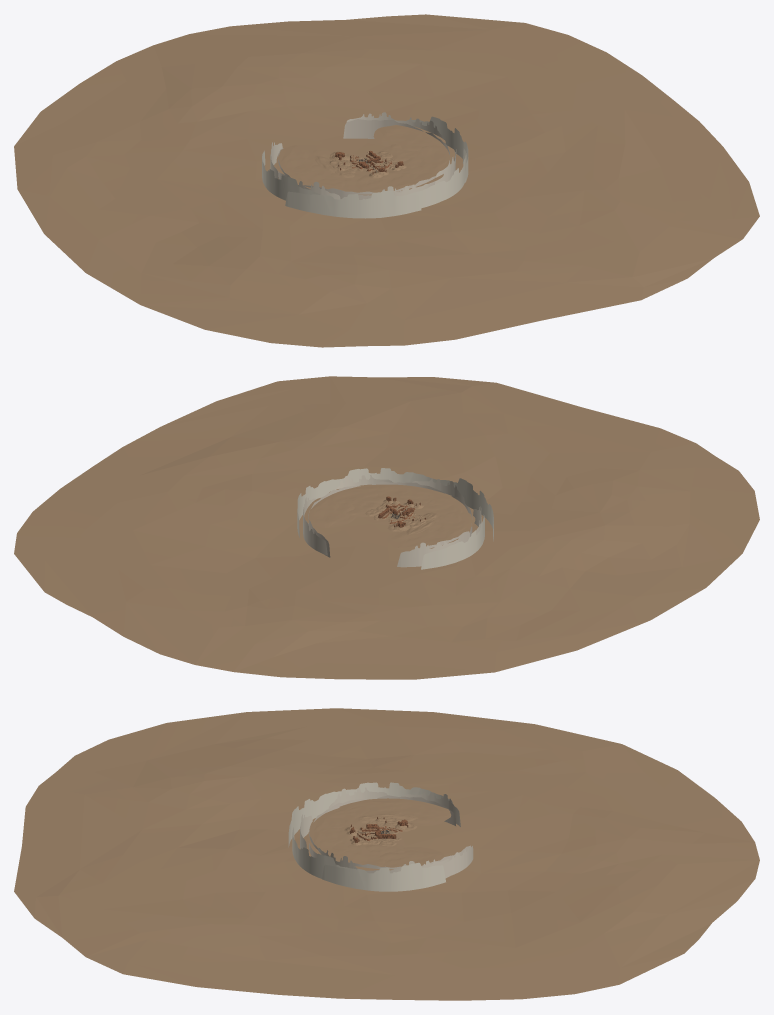
The model's file is Terminus.glb.
The picture shows the model from 3 angles, top to bottom: view 1: azimuth 30°, elevation 25°; view 2: azimuth 150°, elevation 25°; view 3: azimuth 270°, elevation 25°; orthographic projection. The views are drawn at different scales.
Parts seen in each view (by area): view 1: SM_Env_Sand_Ground_02__32_, SM_Env_BackgroundCard_03__2_, SM_Env_Sand_Ground_02__33_, SM_Env_Sand_Ground_02__39_, SM_Env_BackgroundCard_03__3_, SM_Env_Sand_Ground_02__34_, SM_Env_BackgroundCard_03__1_, SM_Env_BackgroundCard_01__5_, SM_Env_Sand_Ground_02__35_, SM_Env_BackgroundCard_03__4_, SM_Env_Sand_Ground_02__38_, SM_Env_Sand_Ground_02__37_ (+1 smaller); view 2: SM_Env_Sand_Ground_02__32_, SM_Env_BackgroundCard_03__1_, SM_Env_Sand_Ground_02__33_, SM_Env_BackgroundCard_03__3_, SM_Env_Sand_Ground_02__39_, SM_Env_Sand_Ground_02__34_, SM_Env_BackgroundCard_03__2_, SM_Env_Sand_Ground_02__38_, SM_Env_Sand_Ground_02__35_, SM_Env_BackgroundCard_02__4_, SM_Env_Sand_Ground_02__36_, SM_Env_Sand_Ground_02__37_ (+1 smaller); view 3: SM_Env_Sand_Ground_02__32_, SM_Env_BackgroundCard_03__4_, SM_Env_Sand_Ground_02__39_, SM_Env_BackgroundCard_03__2_, SM_Env_Sand_Ground_02__33_, SM_Env_BackgroundCard_03__3_, SM_Env_Sand_Ground_02__35_, SM_Env_Sand_Ground_02__34_, SM_Env_Sand_Ground_02__38_, SM_Env_BackgroundCard_03__1_, SM_Env_Sand_Ground_02__36_, SM_Env_Sand_Ground_02__37_ (+1 smaller).
Part boxes in pixels (x1,y1,x2,y2): SM_Env_Sand_Ground_02__32_: (14, 14, 759, 347); SM_Env_BackgroundCard_03__2_: (285, 190, 421, 218); SM_Env_Sand_Ground_02__33_: (373, 125, 445, 151); SM_Env_Sand_Ground_02__39_: (276, 145, 330, 174); SM_Env_BackgroundCard_03__3_: (407, 148, 466, 208); SM_Env_Sand_Ground_02__34_: (403, 145, 455, 173); SM_Env_BackgroundCard_03__1_: (262, 150, 319, 200); SM_Env_BackgroundCard_01__5_: (343, 119, 423, 138); SM_Env_Sand_Ground_02__35_: (380, 166, 443, 190); SM_Env_BackgroundCard_03__4_: (406, 116, 468, 182); SM_Env_Sand_Ground_02__38_: (288, 165, 344, 192); SM_Env_Sand_Ground_02__37_: (318, 170, 381, 195); SM_Env_Sand_Ground_02__32_: (14, 376, 759, 679); SM_Env_BackgroundCard_03__1_: (421, 514, 484, 569); SM_Env_Sand_Ground_02__33_: (304, 497, 356, 527); SM_Env_BackgroundCard_03__3_: (324, 468, 447, 495); SM_Env_Sand_Ground_02__39_: (387, 530, 458, 551); SM_Env_Sand_Ground_02__34_: (327, 484, 390, 504); SM_Env_BackgroundCard_03__2_: (440, 478, 493, 541); SM_Env_Sand_Ground_02__38_: (424, 512, 475, 537); SM_Env_Sand_Ground_02__35_: (376, 482, 434, 504); SM_Env_BackgroundCard_02__4_: (397, 540, 458, 567); SM_Env_Sand_Ground_02__36_: (395, 490, 457, 510); SM_Env_Sand_Ground_02__37_: (414, 499, 468, 523); SM_Env_Sand_Ground_02__32_: (14, 708, 759, 1000); SM_Env_BackgroundCard_03__4_: (322, 862, 445, 891); SM_Env_Sand_Ground_02__39_: (389, 798, 451, 825); SM_Env_BackgroundCard_03__2_: (288, 789, 356, 847); SM_Env_Sand_Ground_02__33_: (378, 847, 444, 870); SM_Env_BackgroundCard_03__3_: (292, 827, 347, 878); SM_Env_Sand_Ground_02__35_: (308, 830, 352, 854); SM_Env_Sand_Ground_02__34_: (328, 844, 385, 870); SM_Env_Sand_Ground_02__38_: (339, 798, 407, 816); SM_Env_BackgroundCard_03__1_: (347, 782, 452, 803); SM_Env_Sand_Ground_02__36_: (309, 817, 357, 845); SM_Env_Sand_Ground_02__37_: (318, 806, 374, 829).
Size of the model in its own units: 4389 by 349 by 4730.
Materials: 15 (12 with a texture image).
